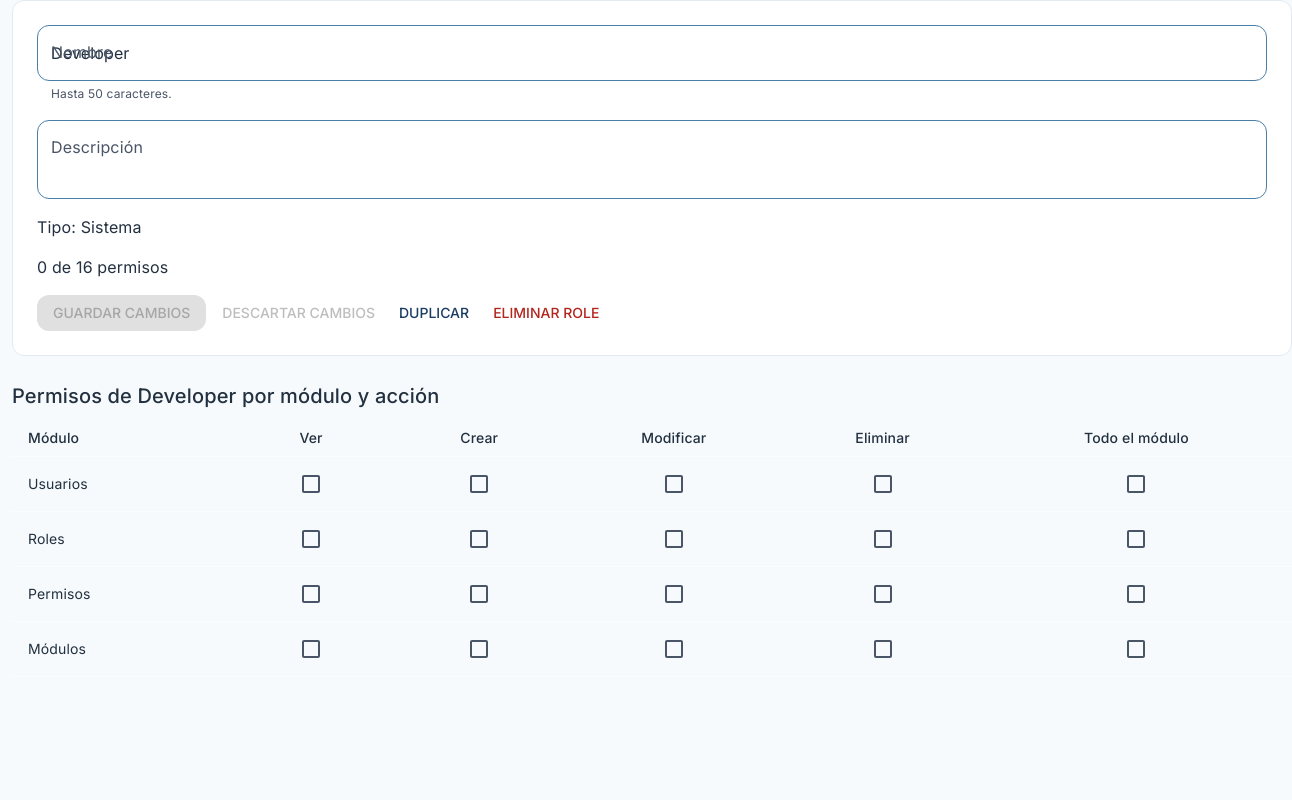
Test case: RoleDetailPanel › Descartar cambios reverts the name and disables the buttons again
Type " Jr" into the field labelled "Nombre".
click(652, 53); type(" Jr")  # box x1=37 y1=25 x2=1267 y2=81
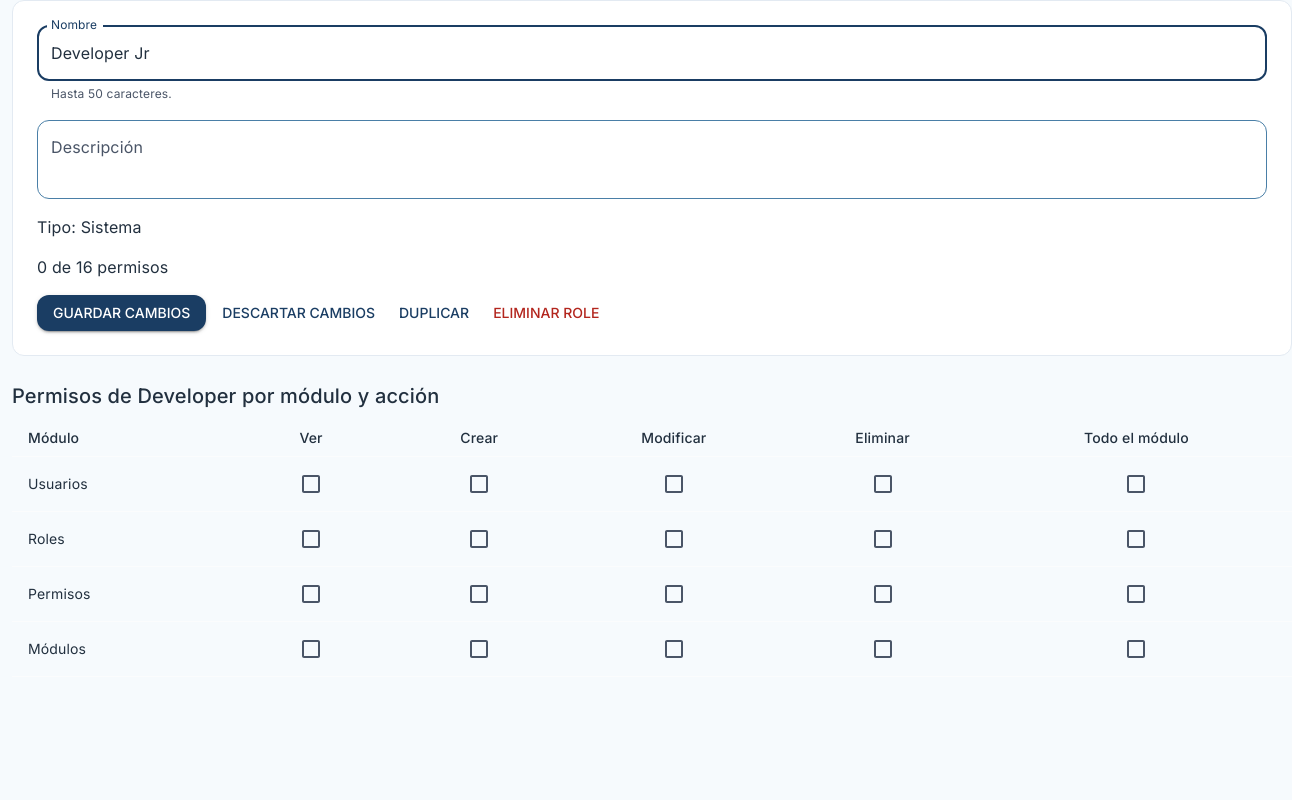
Click the button "Descartar cambios".
click(299, 313)  # box x1=214 y1=295 x2=383 y2=331
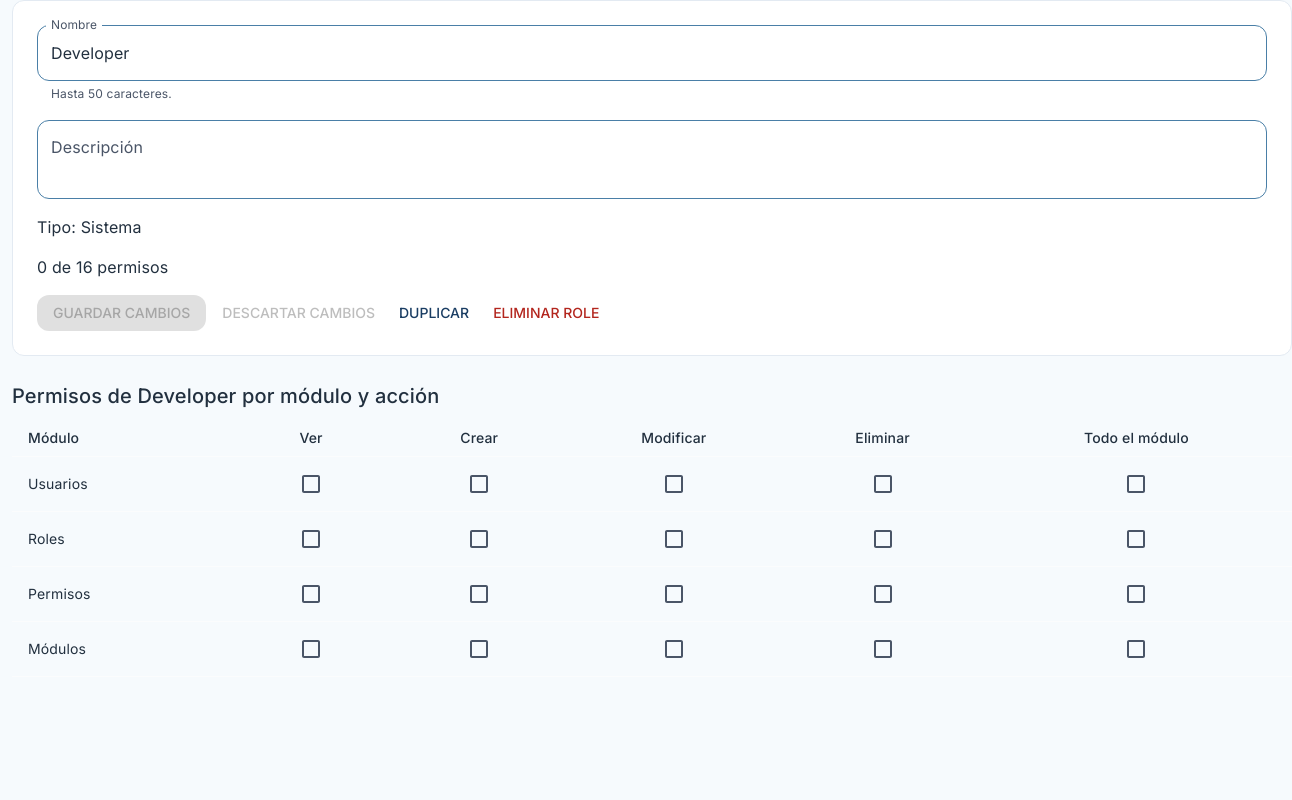
Expected: the field labelled "Nombre" holds "Developer", x1=37 y1=25 x2=1267 y2=81
Expected: the button "Guardar cambios" is disabled, x1=37 y1=295 x2=206 y2=331
Expected: the button "Descartar cambios" is disabled, x1=214 y1=295 x2=383 y2=331
